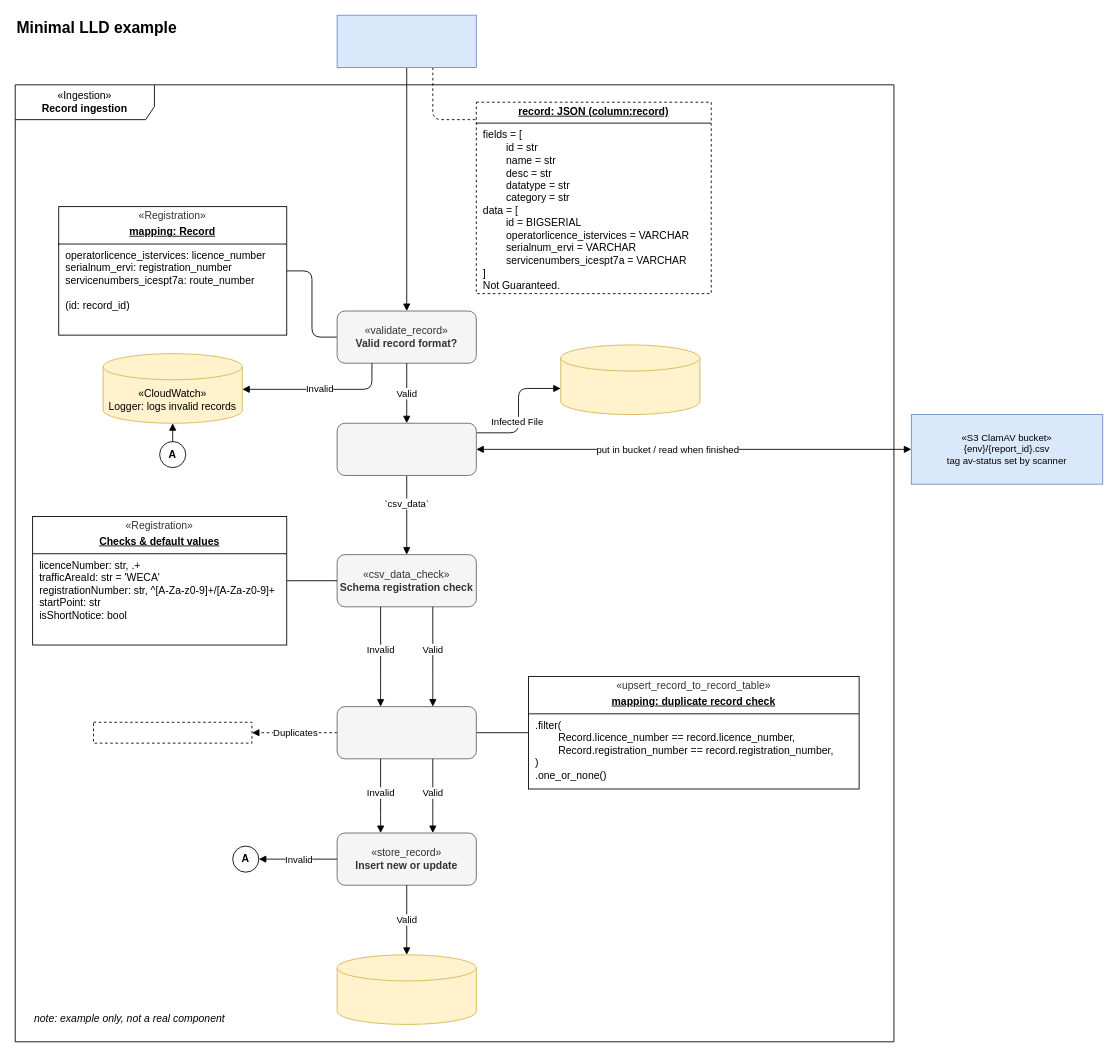
This 1118x1057 diagram has some shape labels left out. Here are the shapes that lost their labels. From the top down, the centre of each, then its label:
the point at 406,40: «submitted_record» POST API /submit
the point at 630,379: «CloudWatch» Logger: invalid_file
the point at 406,448: «validate_record» Malware check
the point at 172,732: Silently drops duplicate records
the point at 406,732: «duplicate_record_check» Check for duplicates
the point at 406,989: «record_store» postgres
